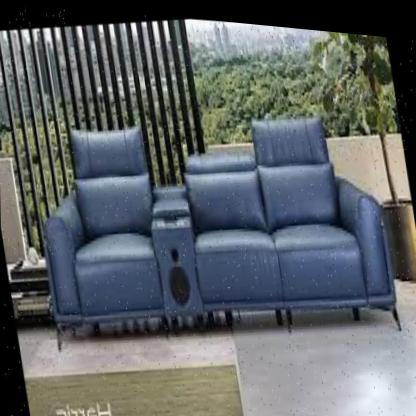Sofa: (7, 55, 412, 390)
